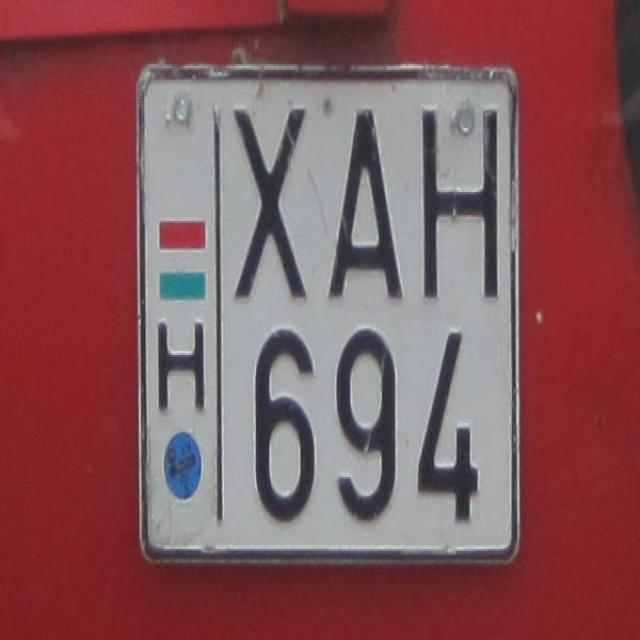licence: (135, 61, 520, 563)
